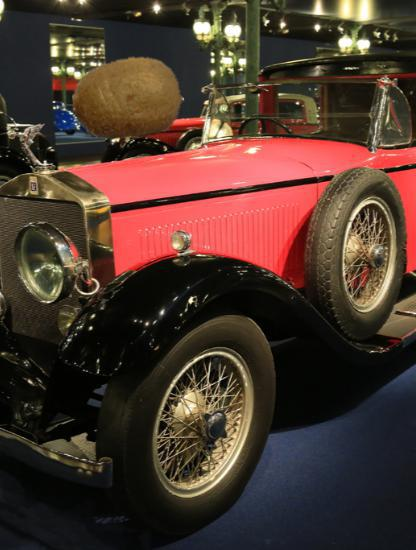Kiwi: (73, 43, 184, 154)
